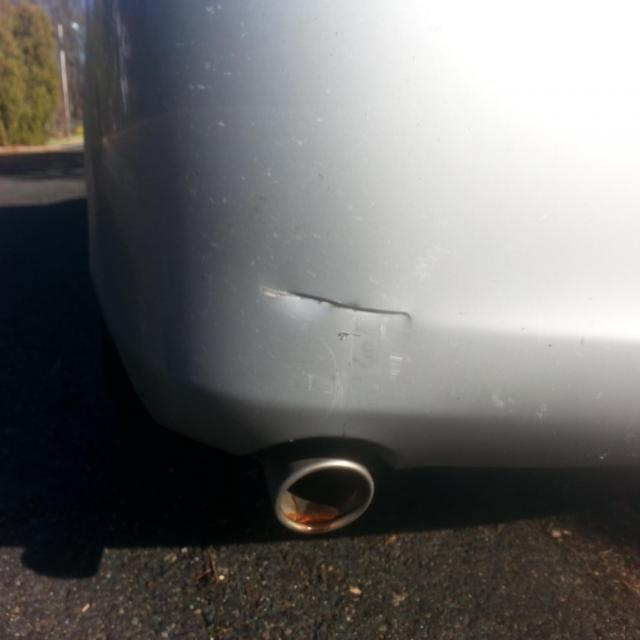scratch: (326, 320, 416, 382)
tear: (251, 280, 419, 324)
